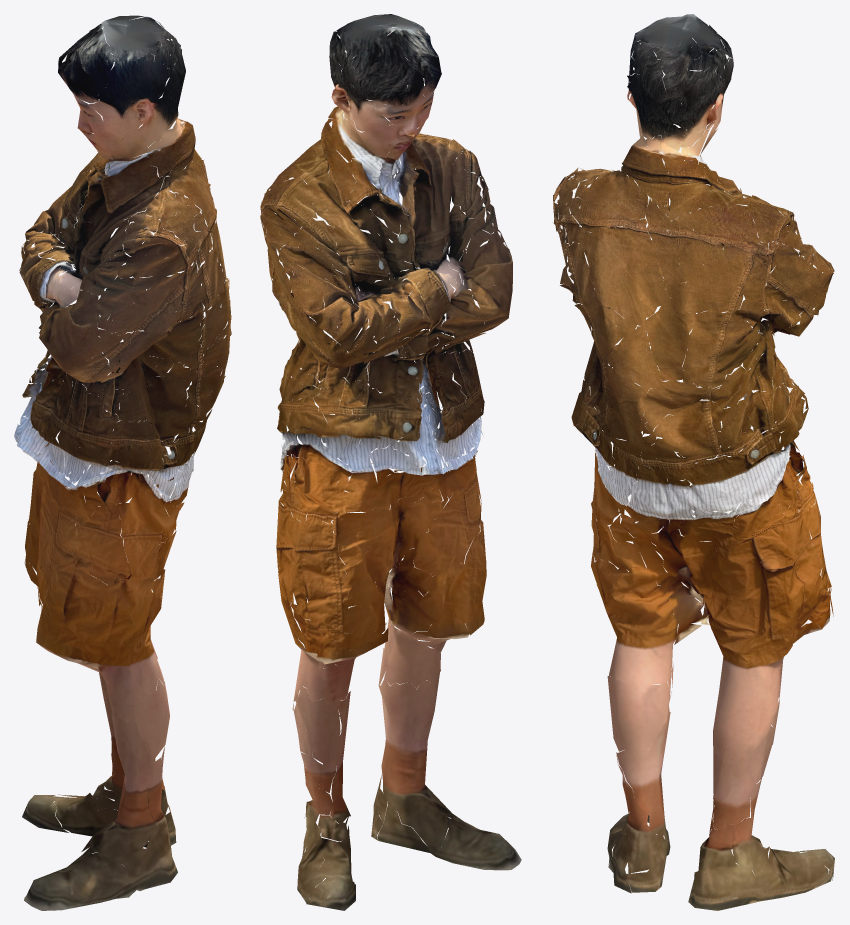
The model's file is newkorean2.glb.
3 views of the same model, side by side, from view 1: azimuth 30°, elevation 25°; view 2: azimuth 150°, elevation 25°; view 3: azimuth 270°, elevation 25° (orthographic). The views are drawn at different scales.
Visible parts, largest first — view 1: Object_4; view 2: Object_4; view 3: Object_4.
Part boxes in pixels (x1,y1,x2,y2): Object_4: (14,15,231,910); Object_4: (260,14,521,910); Object_4: (553,14,834,910).
Bounding box in the file's own units: 0.6773 × 2.63 × 0.7885.
1 material, 1 textured.
